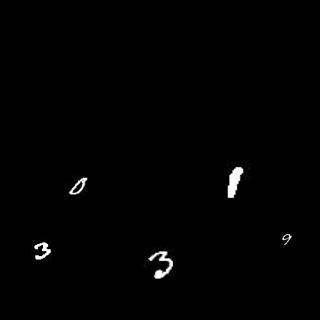nine: (280, 230, 296, 247)
one: (225, 161, 246, 200)
three: (147, 249, 177, 279), (31, 241, 52, 259)
zero: (66, 176, 89, 196)
